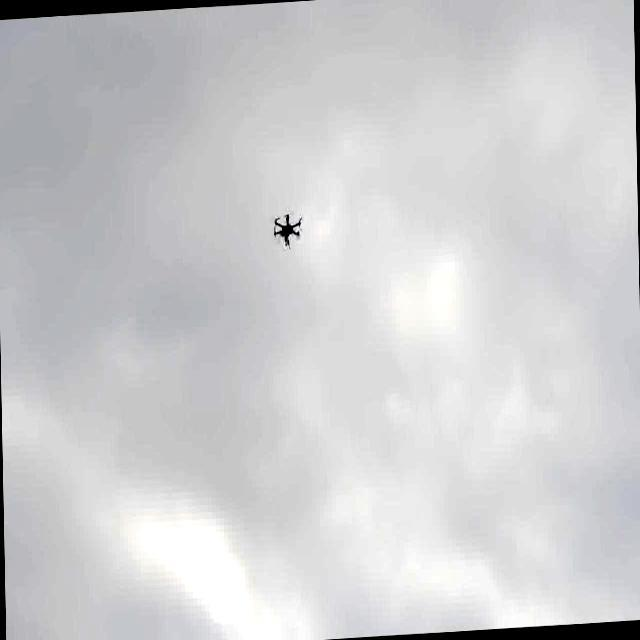drone: (268, 205, 306, 249)
